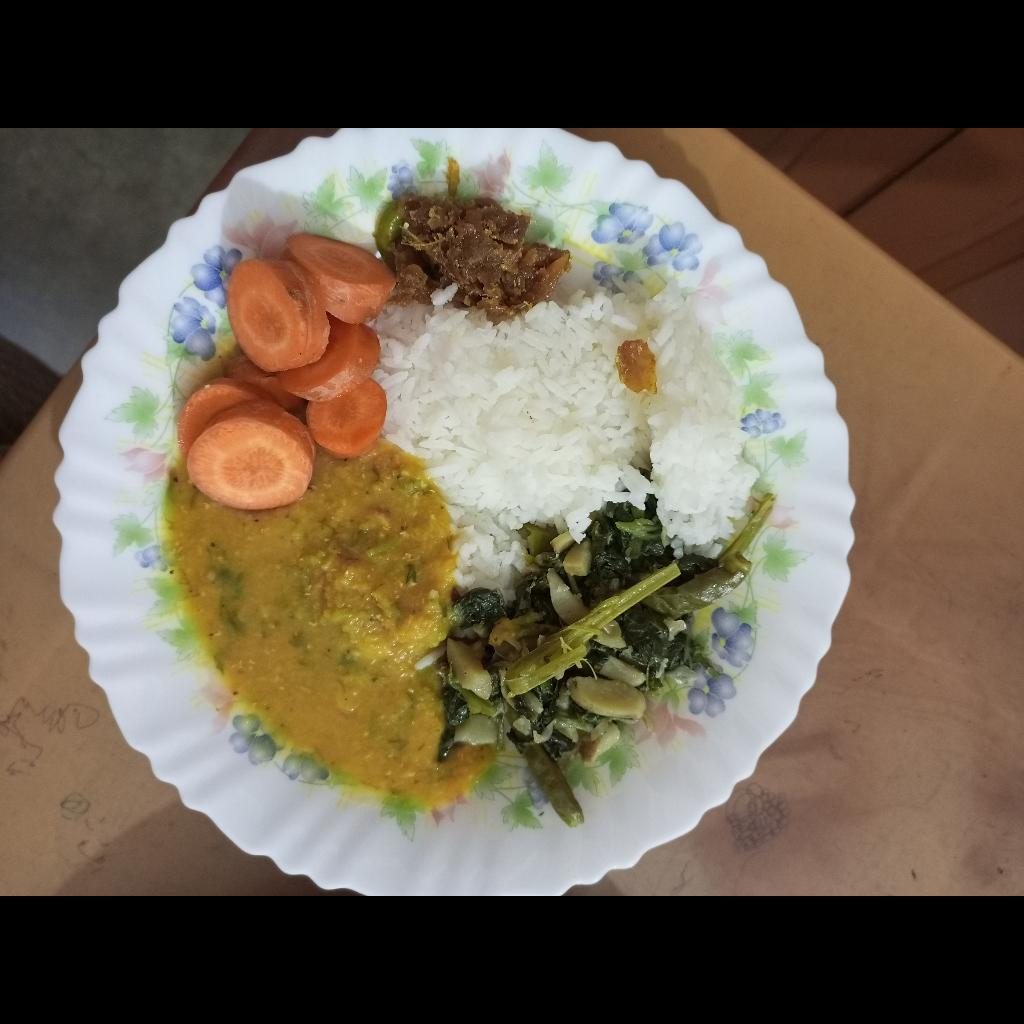achar: (379, 181, 569, 307)
carrot: (173, 223, 397, 516)
daal: (168, 443, 483, 813)
rice: (384, 283, 758, 602)
shak: (434, 491, 778, 840)
